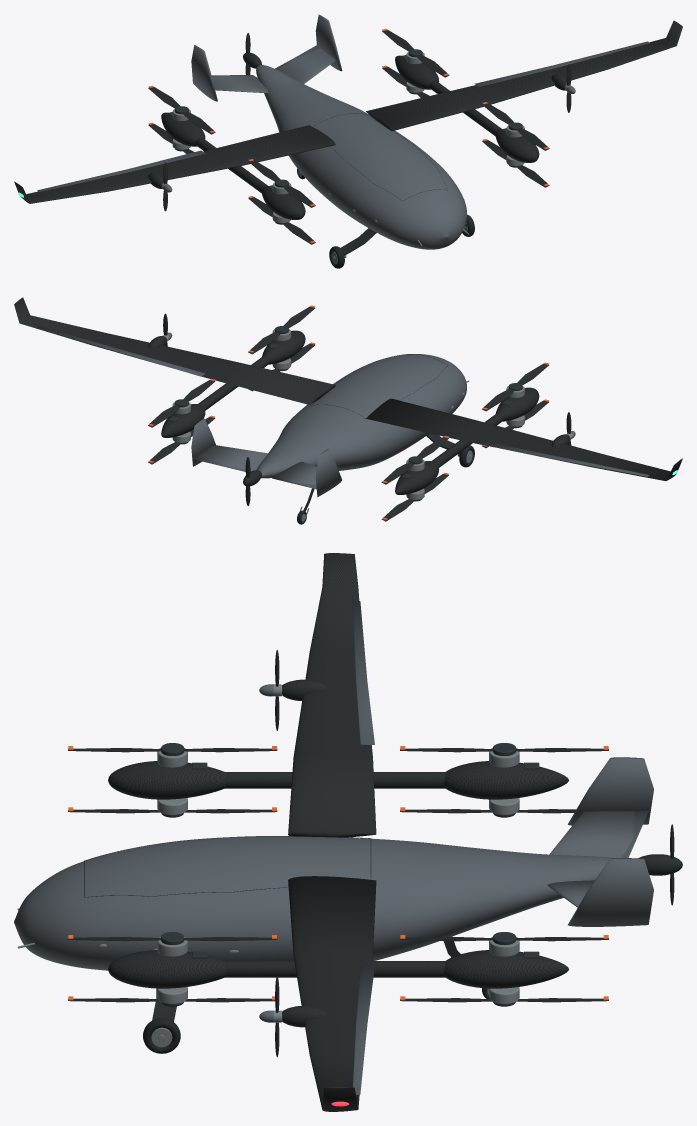
The picture shows the model from 3 angles, top to bottom: view 1: azimuth 30°, elevation 25°; view 2: azimuth 150°, elevation 25°; view 3: azimuth 270°, elevation 25°; orthographic projection. The views are drawn at different scales.
Parts seen in each view (by area): view 1: Fuselage_Shell, Right_Main_Wing, Left_Main_Wing, Right_Tailplane, Left_Front_Motor_Pod, Right_Front_Motor_Pod, Left_Vertical_Fin, Right_Rear_Motor_Pod, Left_Rear_Motor_Pod, Left_Tailplane, Right_Vertical_Fin, Right_Aileron (+3 smaller); view 2: Fuselage_Shell, Right_Main_Wing, Left_Main_Wing, Right_Tailplane, Left_Rear_Motor_Pod, Left_Vertical_Fin, Right_Rear_Motor_Pod, Right_Front_Motor_Pod, Left_Front_Motor_Pod, Left_Tailplane, Right_Aileron, Right_Vertical_Fin (+3 smaller); view 3: Fuselage_Shell, Left_Main_Wing, Right_Main_Wing, Right_Vertical_Fin, Left_Rear_Motor_Pod, Right_Rear_Motor_Pod, Right_Front_Motor_Pod, Left_Front_Motor_Pod, Left_Vertical_Fin, Left_Tailplane, Right_Longitudinal_Boom, Left_Longitudinal_Boom (+2 smaller).
Part boxes in pixels (<box>): Fuselage_Shell: <box>256,65,466,249</box>; Right_Main_Wing: <box>366,20,682,131</box>; Left_Main_Wing: <box>14,125,335,203</box>; Right_Tailplane: <box>277,48,335,83</box>; Left_Front_Motor_Pod: <box>261,186,305,219</box>; Right_Front_Motor_Pod: <box>495,129,539,162</box>; Left_Vertical_Fin: <box>191,45,217,101</box>; Right_Rear_Motor_Pod: <box>395,55,438,89</box>; Left_Rear_Motor_Pod: <box>161,112,205,146</box>; Left_Tailplane: <box>212,75,268,93</box>; Right_Vertical_Fin: <box>315,14,342,71</box>; Right_Aileron: <box>474,41,649,86</box>; Fuselage_Shell: <box>256,354,466,478</box>; Right_Main_Wing: <box>14,297,335,404</box>; Left_Main_Wing: <box>366,398,682,480</box>; Right_Tailplane: <box>193,445,267,471</box>; Left_Rear_Motor_Pod: <box>395,461,438,494</box>; Left_Vertical_Fin: <box>315,449,341,497</box>; Right_Rear_Motor_Pod: <box>161,404,205,437</box>; Right_Front_Motor_Pod: <box>262,330,305,364</box>; Left_Front_Motor_Pod: <box>495,387,539,421</box>; Left_Tailplane: <box>272,461,316,489</box>; Right_Aileron: <box>37,326,204,376</box>; Right_Vertical_Fin: <box>191,418,215,466</box>; Fuselage_Shell: <box>14,836,613,970</box>; Left_Main_Wing: <box>288,553,376,837</box>; Right_Main_Wing: <box>288,876,376,1111</box>; Right_Vertical_Fin: <box>568,858,653,926</box>; Left_Rear_Motor_Pod: <box>444,761,568,799</box>; Right_Rear_Motor_Pod: <box>444,950,568,988</box>; Right_Front_Motor_Pod: <box>108,950,225,988</box>; Left_Front_Motor_Pod: <box>108,761,225,799</box>; Left_Vertical_Fin: <box>567,757,653,825</box>; Left_Tailplane: <box>549,811,638,857</box>; Right_Longitudinal_Boom: <box>225,961,445,977</box>; Left_Longitudinal_Boom: <box>225,772,445,788</box>.
Size of the model in its own units: 7 by 1.17 by 3.71.
9 materials, 1 textured.
